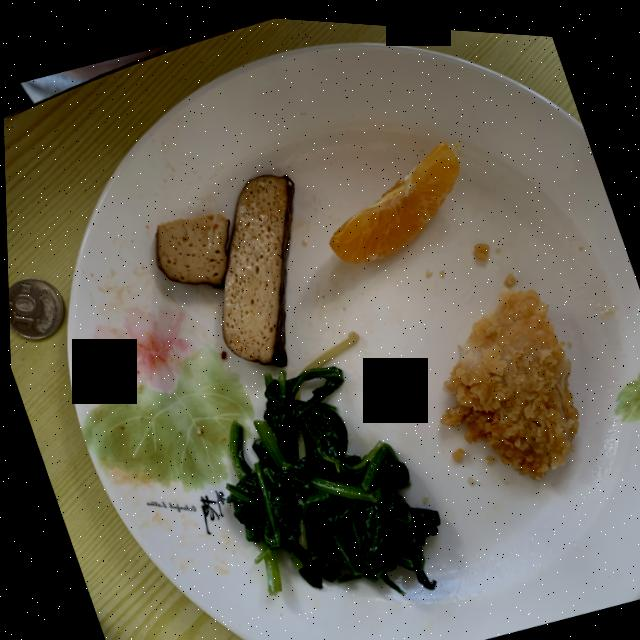coin: (7, 278, 61, 339)
firm tofu: (154, 171, 293, 362)
fried chicken cutlet: (438, 282, 576, 472)
mustard greens: (222, 328, 437, 592)
